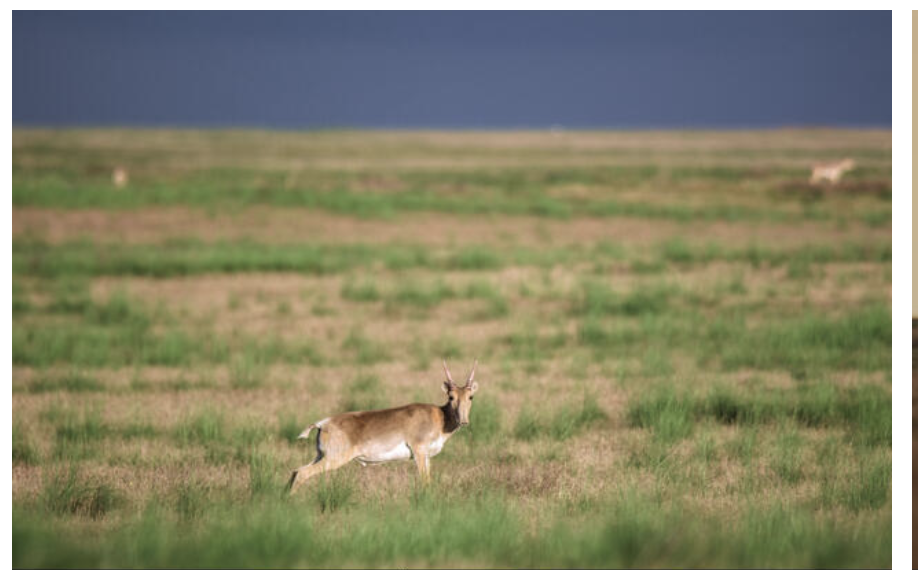saiga: (255, 344, 497, 503)
